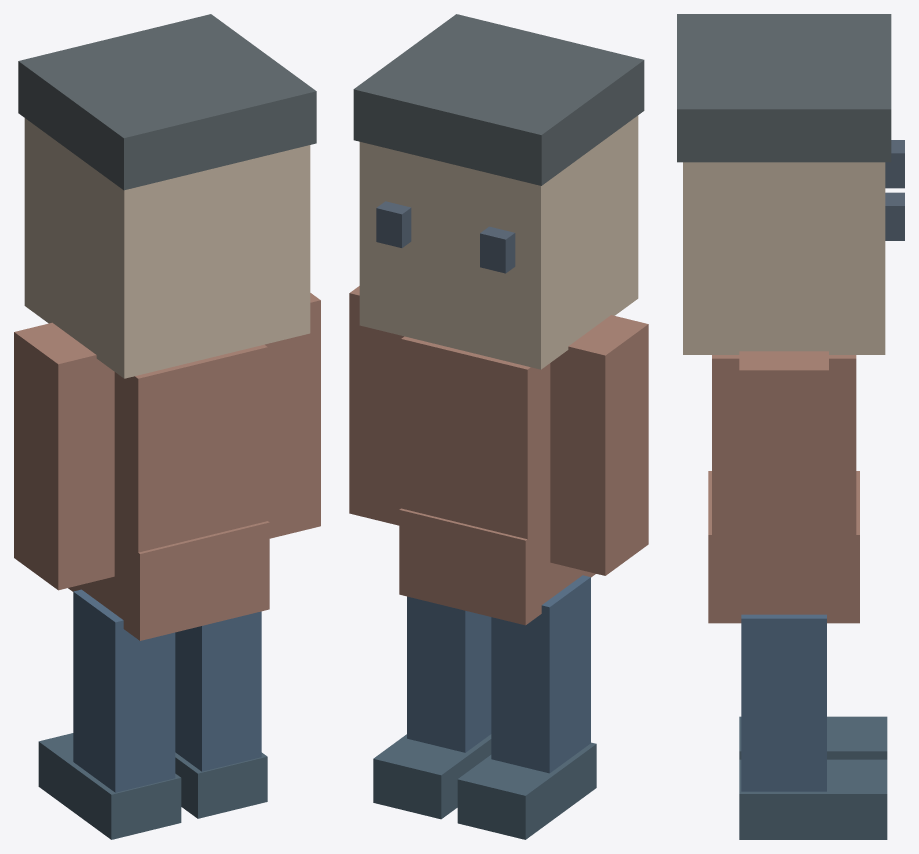
File: Pip.glb
3 renders of one model, left to right at view 1: azimuth 30°, elevation 25°; view 2: azimuth 150°, elevation 25°; view 3: azimuth 270°, elevation 25°, orthographic. The views are drawn at different scales.
Visible parts, largest first — view 1: Part_08, Part_09, Part_00, Part_02, Part_04, Part_01, Part_05, Part_03, Part_06, Part_07; view 2: Part_08, Part_09, Part_00, Part_02, Part_04, Part_01, Part_05, Part_03, Part_06, Part_07, Part_10, Part_11; view 3: Part_08, Part_09, Part_03, Part_05, Part_00, Part_07, Part_01, Part_06, Part_11, Part_10.
Boxes of the visible parts, <box> form: Part_08: <box>24,118,310,378</box>; Part_09: <box>18,14,316,190</box>; Part_00: <box>114,344,267,569</box>; Part_02: <box>14,322,114,590</box>; Part_04: <box>73,589,175,792</box>; Part_01: <box>68,521,269,640</box>; Part_05: <box>175,611,261,771</box>; Part_03: <box>265,293,320,538</box>; Part_06: <box>38,733,181,839</box>; Part_07: <box>175,752,267,818</box>; Part_08: <box>359,115,638,369</box>; Part_09: <box>353,14,644,185</box>; Part_00: <box>401,336,550,539</box>; Part_02: <box>550,315,648,575</box>; Part_04: <box>491,575,590,773</box>; Part_01: <box>399,508,595,625</box>; Part_05: <box>407,596,491,752</box>; Part_03: <box>349,286,403,525</box>; Part_06: <box>457,742,596,839</box>; Part_07: <box>373,734,491,819</box>; Part_10: <box>480,226,515,273</box>; Part_11: <box>376,201,411,247</box>; Part_08: <box>683,162,885,354</box>; Part_09: <box>677,14,891,162</box>; Part_03: <box>739,351,828,599</box>; Part_05: <box>741,614,826,791</box>; Part_00: <box>712,355,856,552</box>; Part_07: <box>739,759,887,839</box>; Part_01: <box>708,471,859,623</box>; Part_06: <box>739,716,887,759</box>; Part_11: <box>885,192,904,240</box>; Part_10: <box>885,140,904,188</box>.
Bounding box in the file's own units: 0.79 × 2.1 × 0.585.
